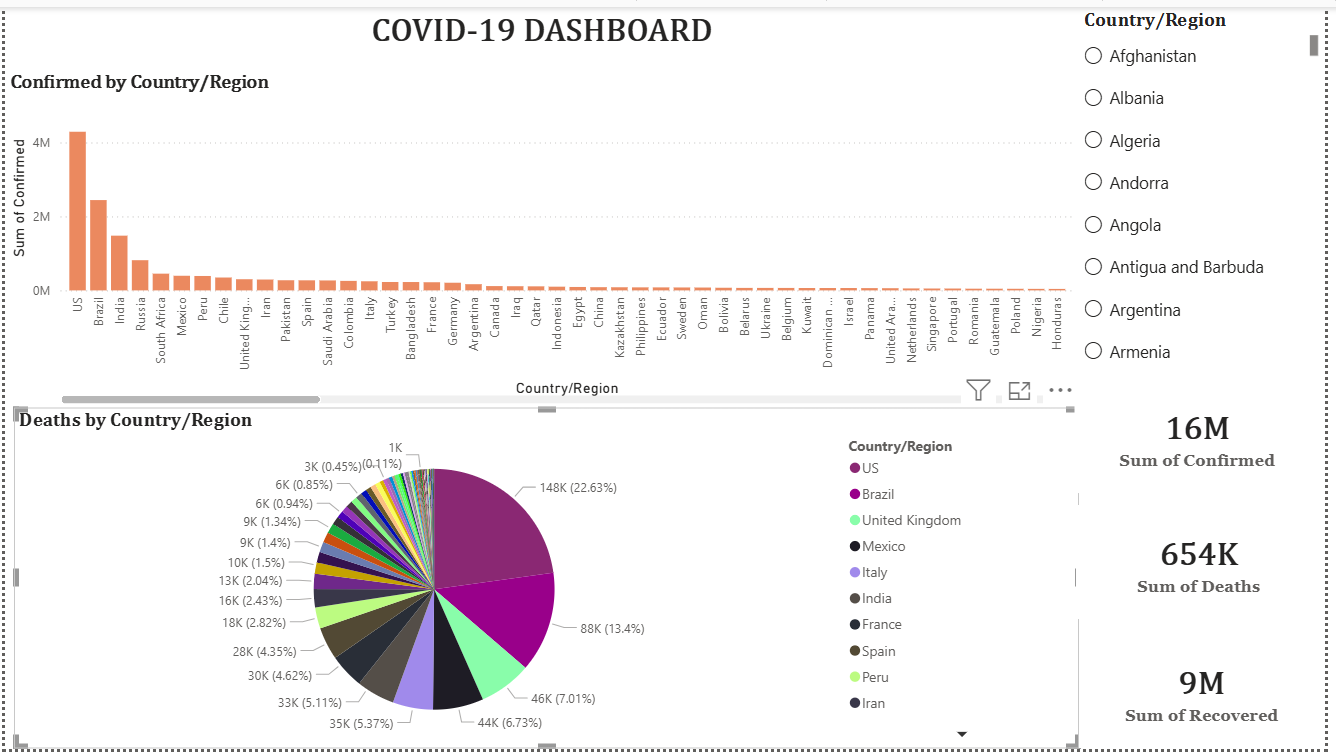

The dashboard page shown, as its layout file describes it:
{"tool":"powerbi","page":{"name":"Page 1","canvas":[1280,720],"ordinal":0},"visuals":[{"type":"clusteredColumnChart","title":" Confirmed by Country/Region","fields":{"Category":["covid_data.Country/Region"],"Y":["Sum(covid_data.Confirmed)"]},"box":[0,62.1,1041.8,327.1],"z":0},{"type":"pieChart","title":"Deaths by Country/Region","fields":{"Category":["covid_data.Country/Region"],"Y":["Sum(covid_data.Deaths)"]},"box":[9.1,389.2,1032.7,330.1],"z":1},{"type":"card","fields":{"Values":["Sum(covid_data.Confirmed)"]},"box":[1037.2,360.4,237.7,110.5],"z":2},{"type":"textbox","box":[0,0,1041.8,48.5],"z":5},{"type":"listSlicer","fields":{"Values":["covid_data.Country/Region"]},"box":[1041.8,0,237.7,360.4],"z":6},{"type":"card","fields":{"Values":["Sum(covid_data.Deaths)"]},"box":[1038.7,483,237.7,110.5],"z":7},{"type":"card","fields":{"Values":["Sum(covid_data.Recovered)"]},"box":[1041.8,608.7,237.7,110.5],"z":8}]}

Visuals, with their boxes in screenshot pixels (x1, y1, x2, y2), scaled from the page's 1280x720 canvas onto the 1336x753 screenshot:
" Confirmed by Country/Region" clusteredColumnChart: 0,65,1087,407
"Deaths by Country/Region" pieChart: 9,407,1087,752
card - Sum(covid_data.Confirmed): 1083,377,1331,492
textbox: 0,0,1087,51
listSlicer - covid_data.Country/Region: 1087,0,1335,377
card - Sum(covid_data.Deaths): 1084,505,1332,621
card - Sum(covid_data.Recovered): 1087,637,1335,752
